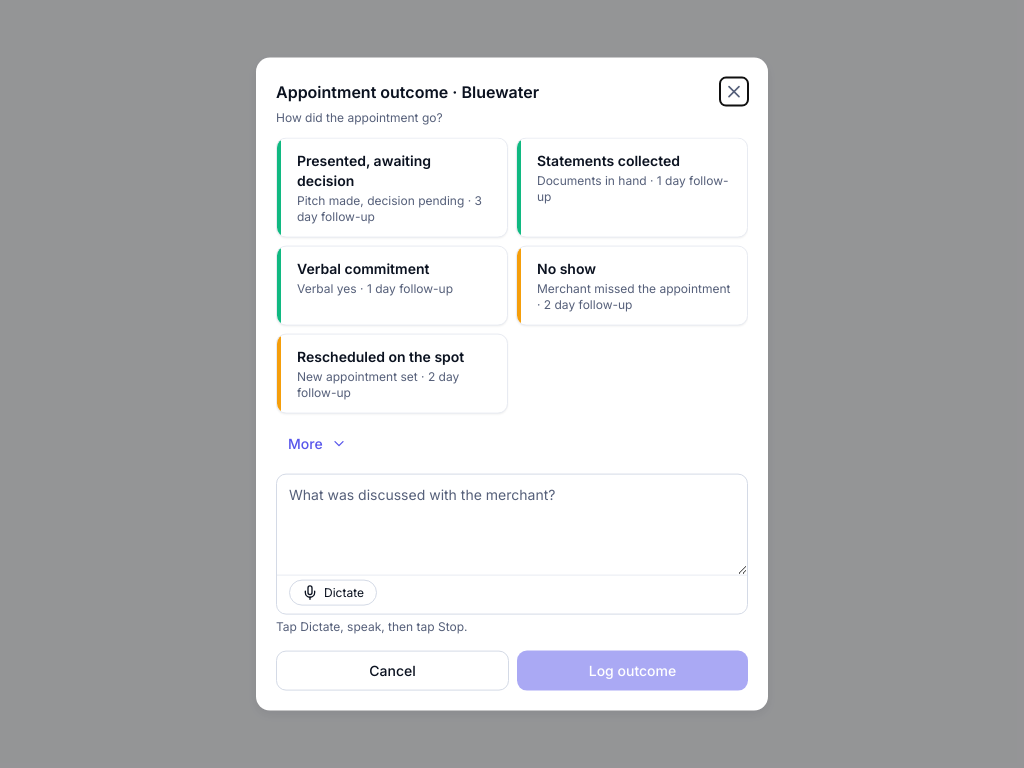
Test: AppointmentOutcomeSheet › More reveals the 4 secondary tiles
Click the button "More" at point(317, 444), box x1=276 y1=430 x2=359 y2=457
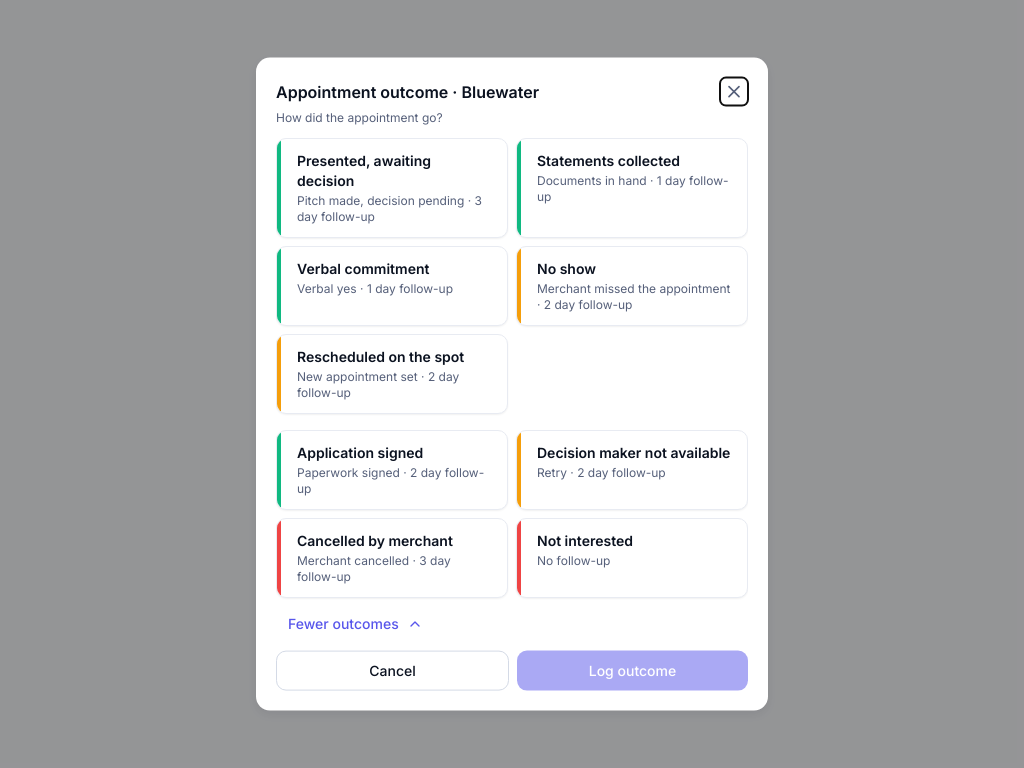
Now the text "Application signed" is shown, box x1=297 y1=444 x2=423 y2=461
Now the text "Decision maker not available" is shown, box x1=537 y1=443 x2=731 y2=463
Now the text "Cancelled by merchant" is shown, box x1=297 y1=532 x2=453 y2=549
